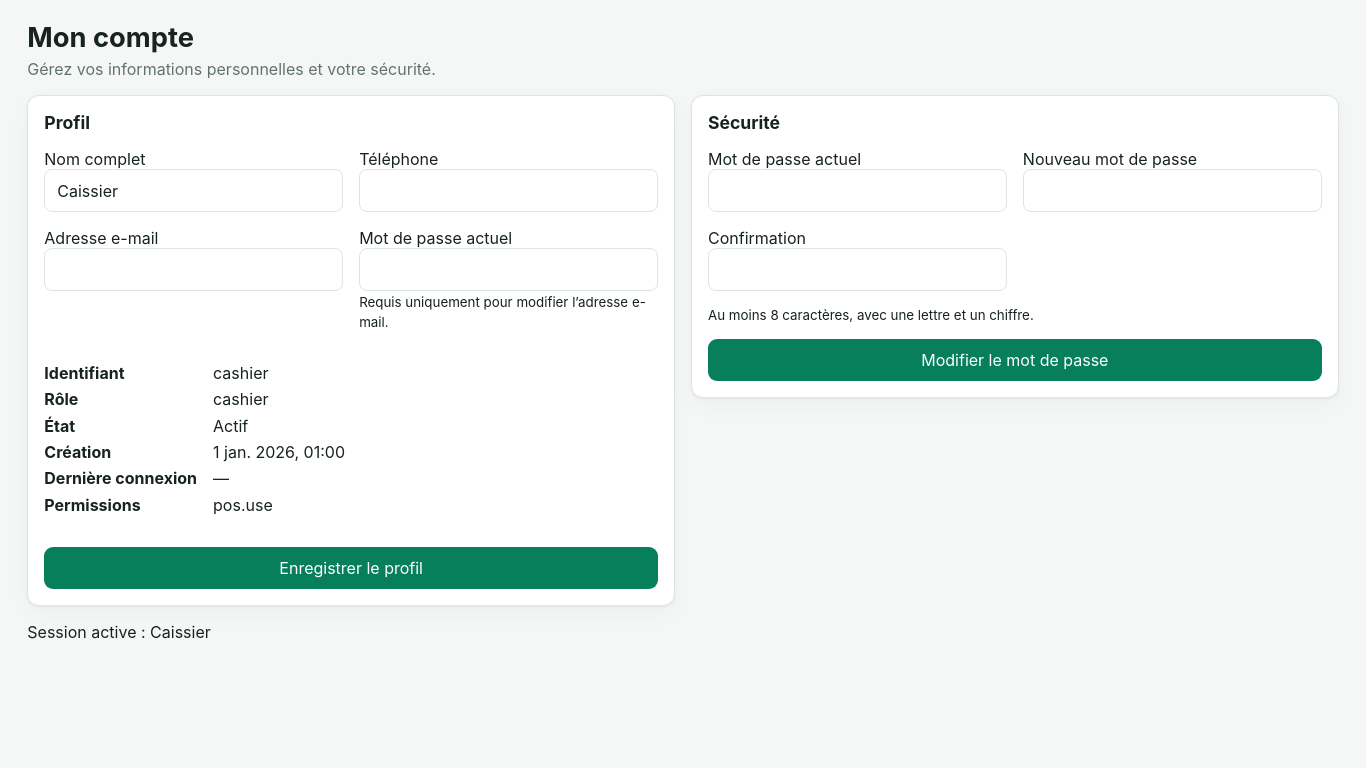
Test: page Mon compte › enregistre et vérifie le nouveau jeton après un changement de mot de passe Tauri
This screenshot has width=1366, height=768.
Expected: the heading "Sécurité" is shown, [708, 112, 780, 133]
Type "Ancien123" into the password field labelled "Mot de passe actuel".
click(857, 191); type("Ancien123")  # box [708, 169, 1007, 212]
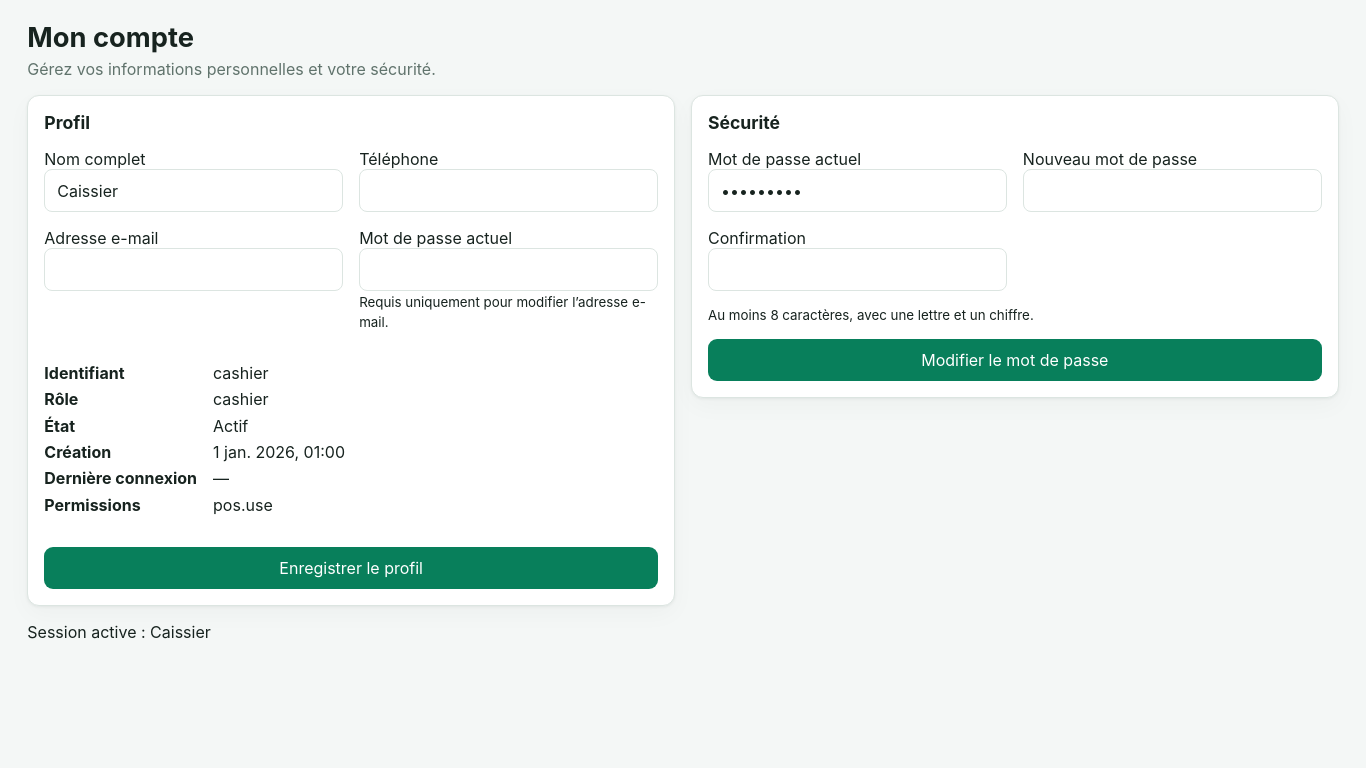
Type "Nouveau123" into the password field labelled "Nouveau mot de passe".
click(1172, 191); type("Nouveau123")  # box [1023, 169, 1322, 212]
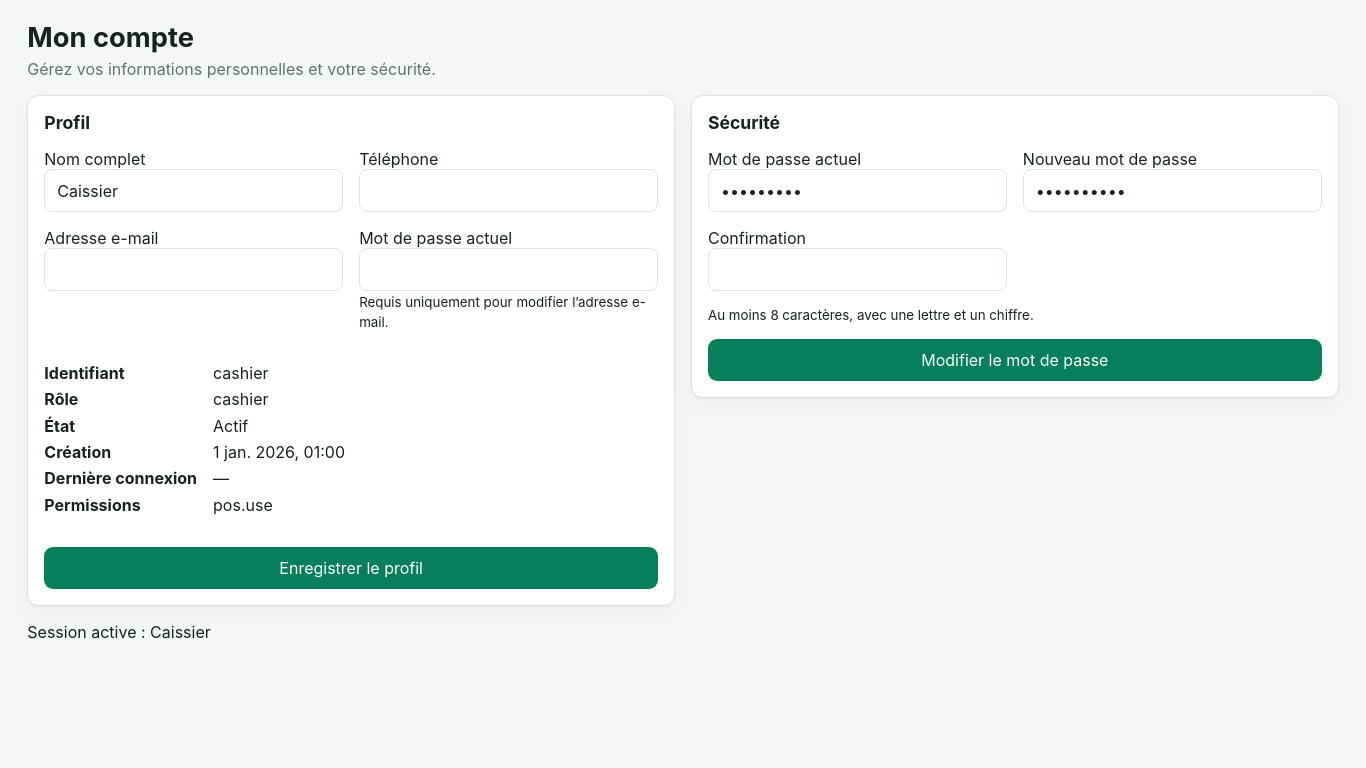
Type "Nouveau123" into the password field labelled "Confirmation".
click(857, 269); type("Nouveau123")  # box [708, 248, 1007, 291]
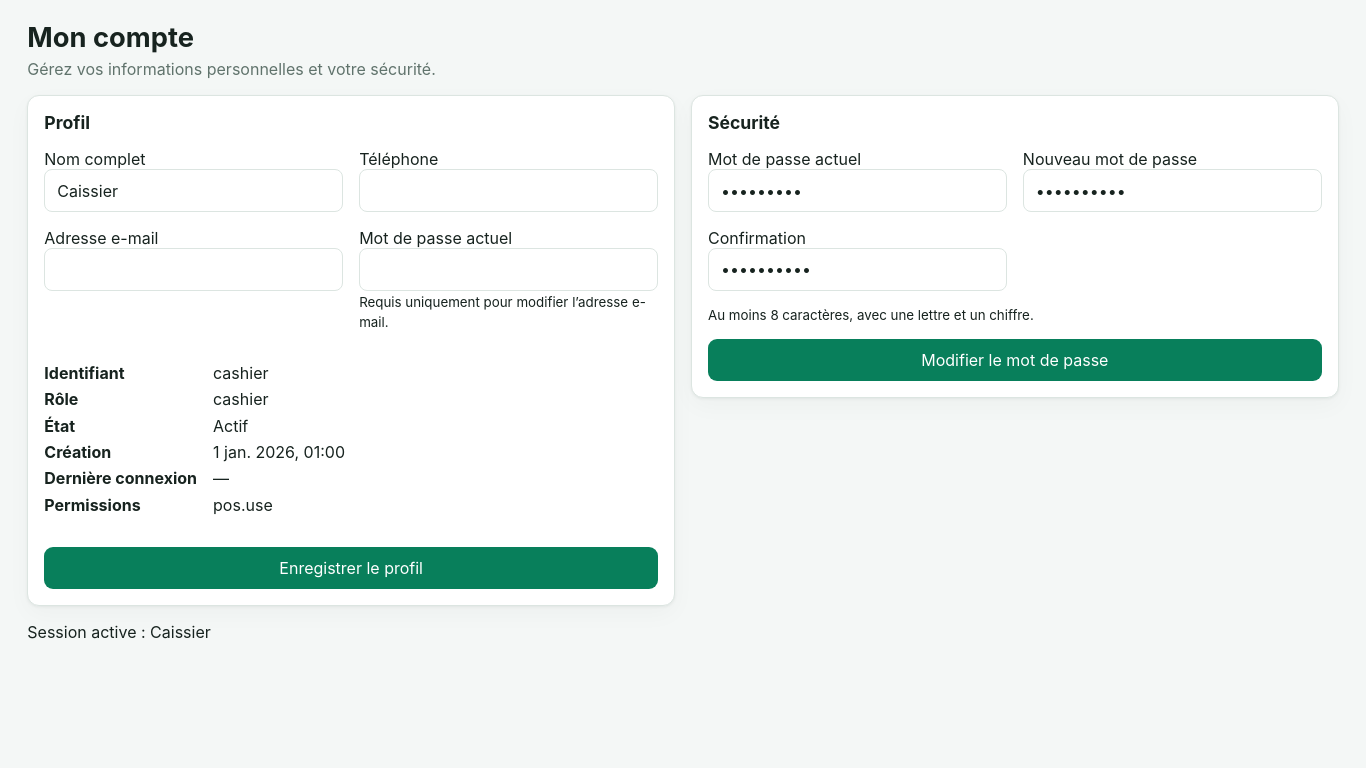
Submit the form "Sécurité", box [691, 95, 1339, 398]
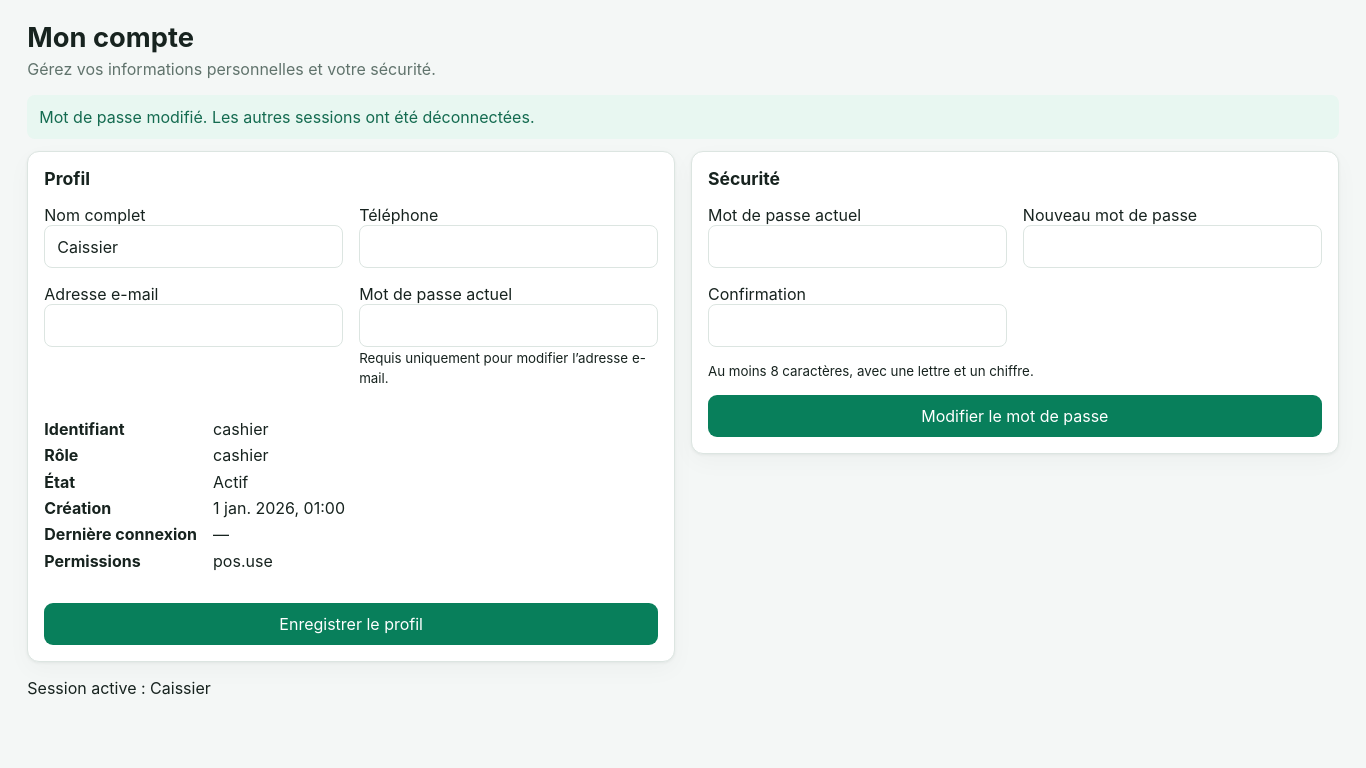
Now the text "Mot de passe modifié. Les autres sessions ont été déconnectées." is shown, box [27, 95, 1339, 139]
